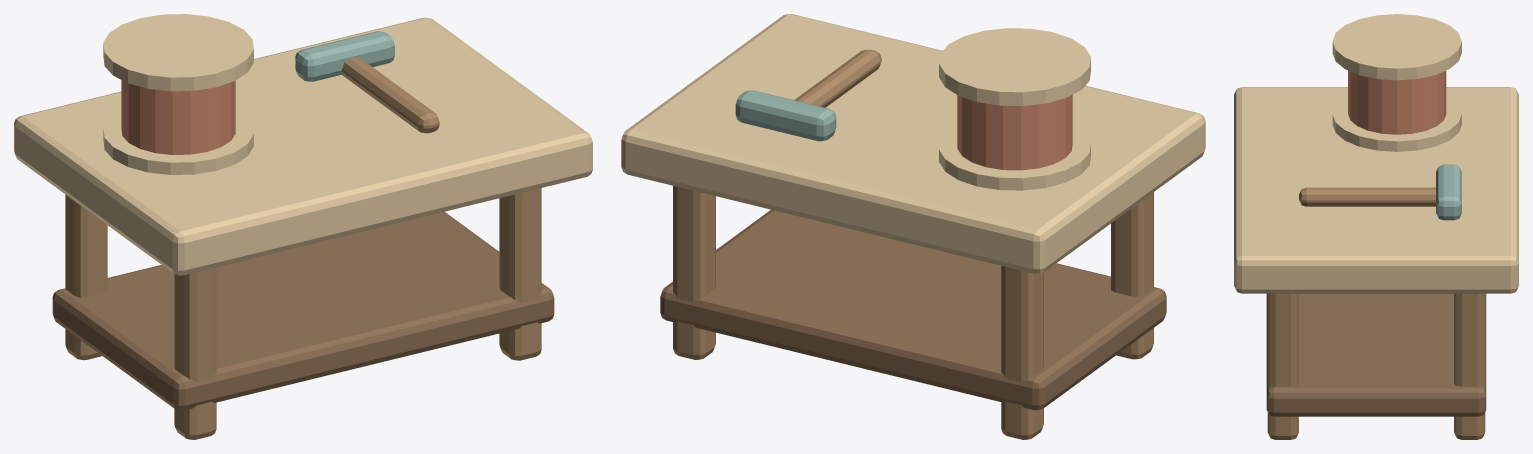
The model's file is workshop.glb.
3 views of the same model, side by side, from view 1: azimuth 30°, elevation 25°; view 2: azimuth 150°, elevation 25°; view 3: azimuth 270°, elevation 25° (orthographic). The views are drawn at different scales.
Visible parts, largest first — view 1: Établi, Planche inférieure, Flasque.001, Bobine miniature, Pied en allumette, Pied en allumette.002, Pied en allumette.001, Flasque, Tête outil, Manche outil; view 2: Établi, Planche inférieure, Flasque.001, Bobine miniature, Pied en allumette.001, Pied en allumette.003, Pied en allumette, Flasque, Tête outil, Manche outil; view 3: Établi, Planche inférieure, Flasque.001, Bobine miniature, Pied en allumette.002, Pied en allumette.003, Flasque, Manche outil, Tête outil.
Boxes of the visible parts, x1=… form: Établi: x1=14, y1=17, x2=592, y2=275; Planche inférieure: x1=52, y1=211, x2=554, y2=410; Flasque.001: x1=103, y1=14, x2=253, y2=91; Bobine miniature: x1=121, y1=80, x2=235, y2=154; Pied en allumette: x1=174, y1=267, x2=216, y2=439; Pied en allumette.002: x1=499, y1=188, x2=541, y2=360; Pied en allumette.001: x1=65, y1=194, x2=107, y2=360; Flasque: x1=103, y1=110, x2=253, y2=174; Tête outil: x1=295, y1=31, x2=394, y2=81; Manche outil: x1=342, y1=57, x2=439, y2=133; Établi: x1=621, y1=14, x2=1205, y2=273; Planche inférieure: x1=660, y1=209, x2=1166, y2=410; Flasque.001: x1=939, y1=28, x2=1090, y2=106; Bobine miniature: x1=957, y1=95, x2=1072, y2=170; Pied en allumette.001: x1=1001, y1=266, x2=1043, y2=439; Pied en allumette.003: x1=673, y1=186, x2=715, y2=359; Pied en allumette: x1=1111, y1=192, x2=1153, y2=359; Flasque: x1=939, y1=125, x2=1090, y2=190; Tête outil: x1=735, y1=90, x2=836, y2=141; Manche outil: x1=794, y1=49, x2=881, y2=107; Établi: x1=1234, y1=87, x2=1518, y2=293; Planche inférieure: x1=1266, y1=293, x2=1486, y2=416; Flasque.001: x1=1332, y1=14, x2=1461, y2=80; Bobine miniature: x1=1348, y1=70, x2=1446, y2=134; Pied en allumette.002: x1=1267, y1=293, x2=1298, y2=439; Pied en allumette.003: x1=1454, y1=293, x2=1485, y2=439; Flasque: x1=1332, y1=97, x2=1461, y2=151; Manche outil: x1=1299, y1=187, x2=1435, y2=206; Tête outil: x1=1436, y1=164, x2=1461, y2=220.
Size of the model in its own units: 1.6 by 1.19 by 1.1.
